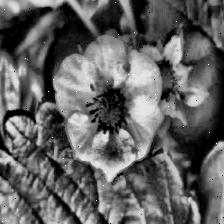Blossom Blight: (84, 79, 134, 137)
